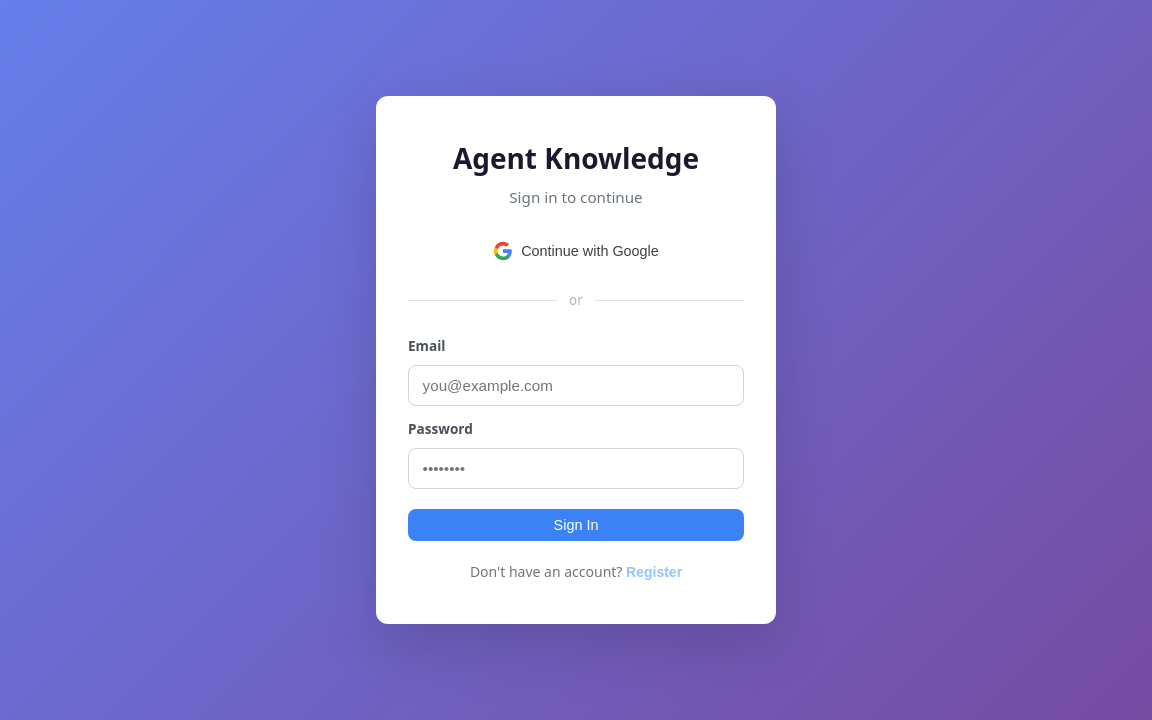
LoginPage › toggles between sign-in and register mode
Check: the button "Sign In" is shown, box [408,509,744,541]
What coordinates should you click on to do the following:
click the button "Register"
I would click on:
 (654, 572)
Its box is [626,564,682,580].
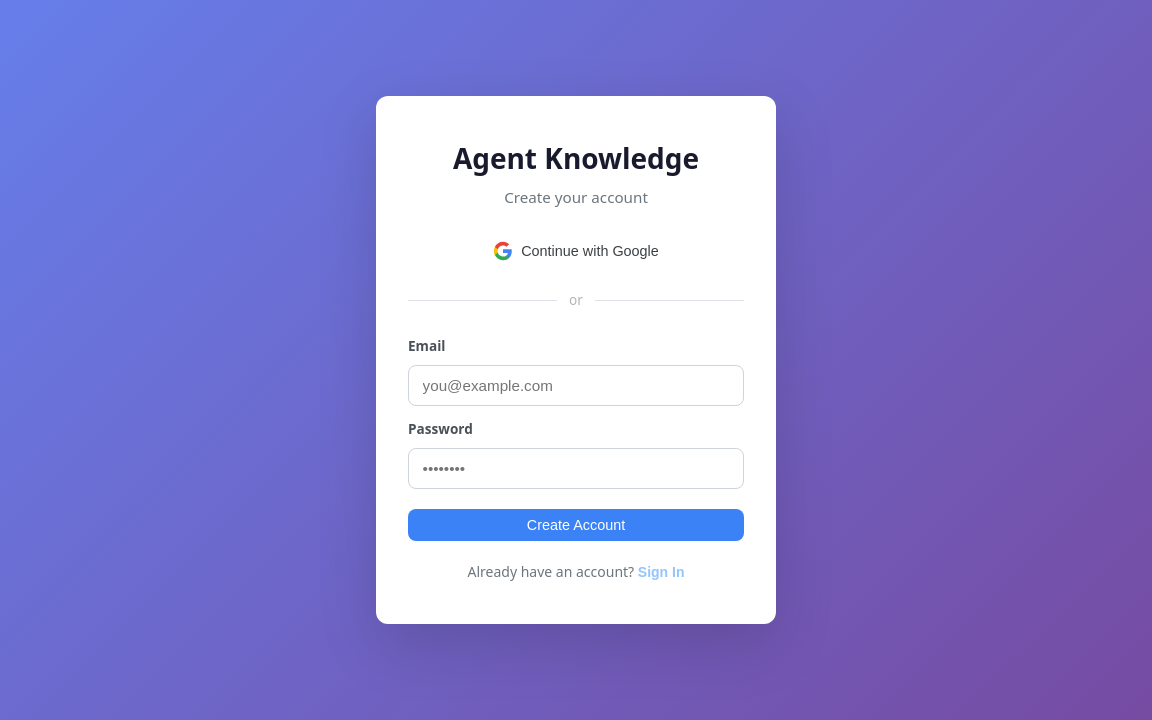
Check: the button "Create Account" is shown, box [408,509,744,541]
